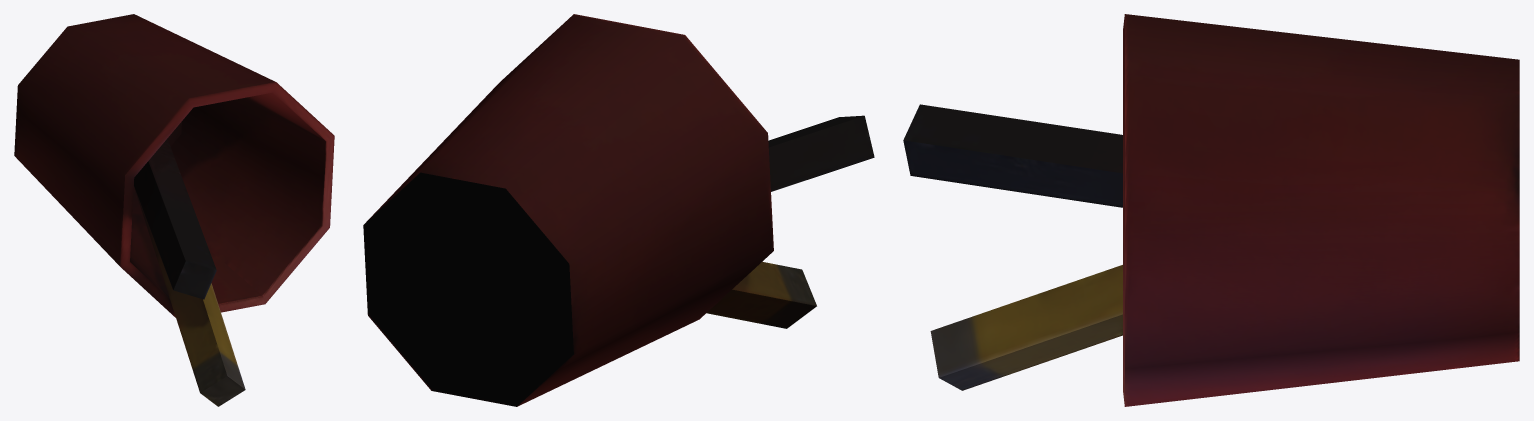
Rendered from Cup.obj.
3 views of the same model, side by side, from view 1: azimuth 30°, elevation 25°; view 2: azimuth 150°, elevation 25°; view 3: azimuth 270°, elevation 25° (orthographic). The views are drawn at different scales.
Size of the model in its own units: 0.1327 by 0.1467 by 0.2072.
1 material, 1 textured.
